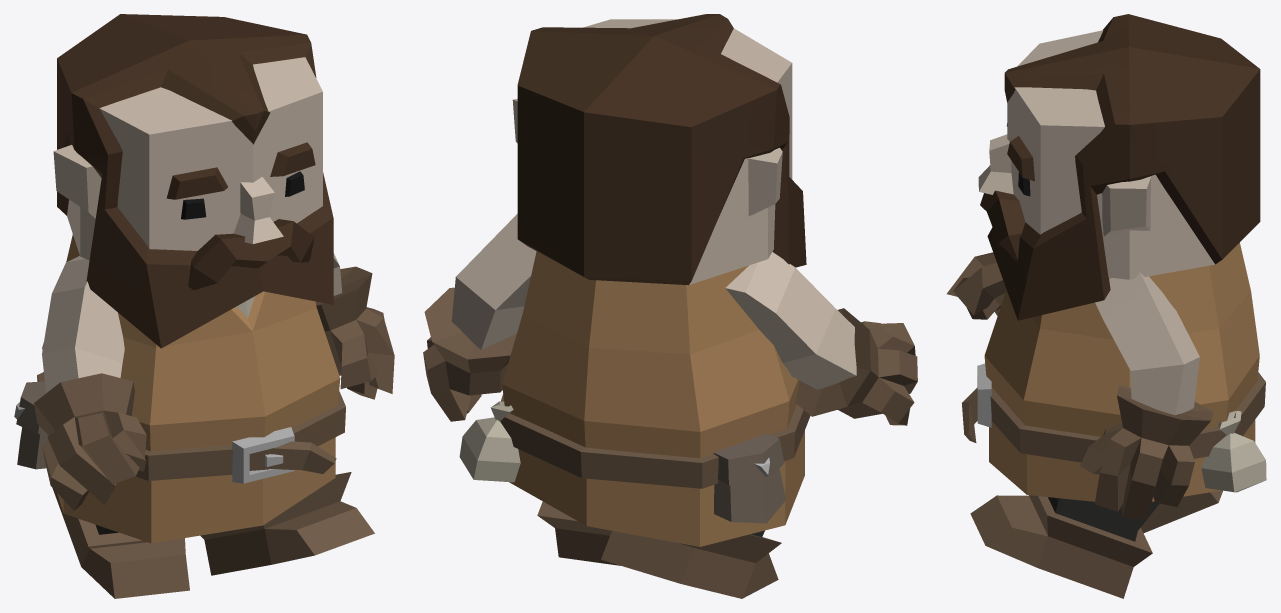
Rendered from homme-3.glb.
The picture shows the model from 3 angles, left to right: view 1: azimuth 30°, elevation 25°; view 2: azimuth 150°, elevation 25°; view 3: azimuth 270°, elevation 25°; orthographic projection. The views are drawn at different scales.
Parts seen in each view (by area): view 1: Face_GEO2_CharTxt_MAT_0; view 2: Face_GEO2_CharTxt_MAT_0; view 3: Face_GEO2_CharTxt_MAT_0.
Part boxes in pixels (left/top/right/bottom): Face_GEO2_CharTxt_MAT_0: left=14, top=14, right=394, bottom=598; Face_GEO2_CharTxt_MAT_0: left=423, top=14, right=917, bottom=598; Face_GEO2_CharTxt_MAT_0: left=947, top=14, right=1266, bottom=598.
Bounding box in the file's own units: 1.1 × 1.39 × 0.7951.
Materials: 1 (1 with a texture image).
